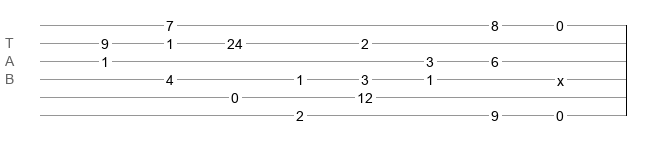0: (231, 90, 239, 100), (556, 18, 564, 28), (556, 108, 564, 118)
1: (101, 54, 109, 64), (166, 36, 174, 46), (296, 72, 304, 82), (426, 72, 434, 82)
12: (357, 90, 373, 100)
2: (296, 108, 304, 118), (361, 36, 369, 46)
24: (227, 36, 243, 46)
3: (361, 72, 369, 82), (426, 54, 434, 64)
4: (166, 72, 174, 82)
6: (491, 54, 499, 64)
7: (166, 18, 174, 28)
8: (491, 18, 499, 28)
9: (101, 36, 109, 46), (491, 108, 499, 118)
x: (557, 73, 564, 81)
